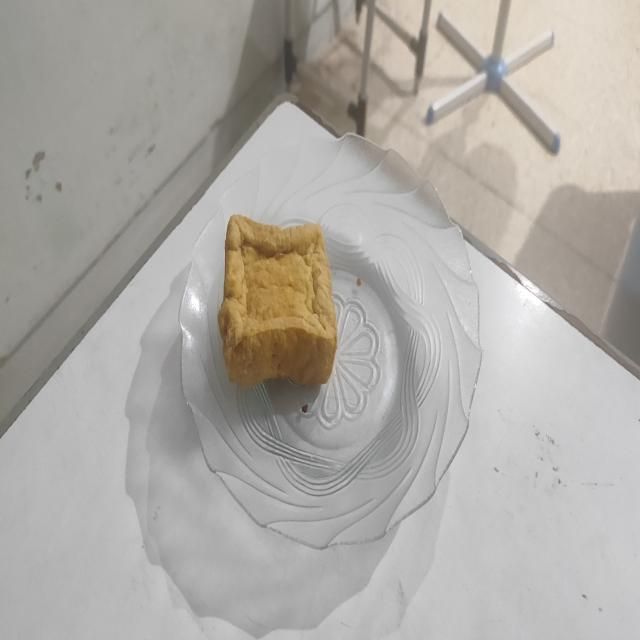tahu_goreng: (218, 215, 337, 386)
